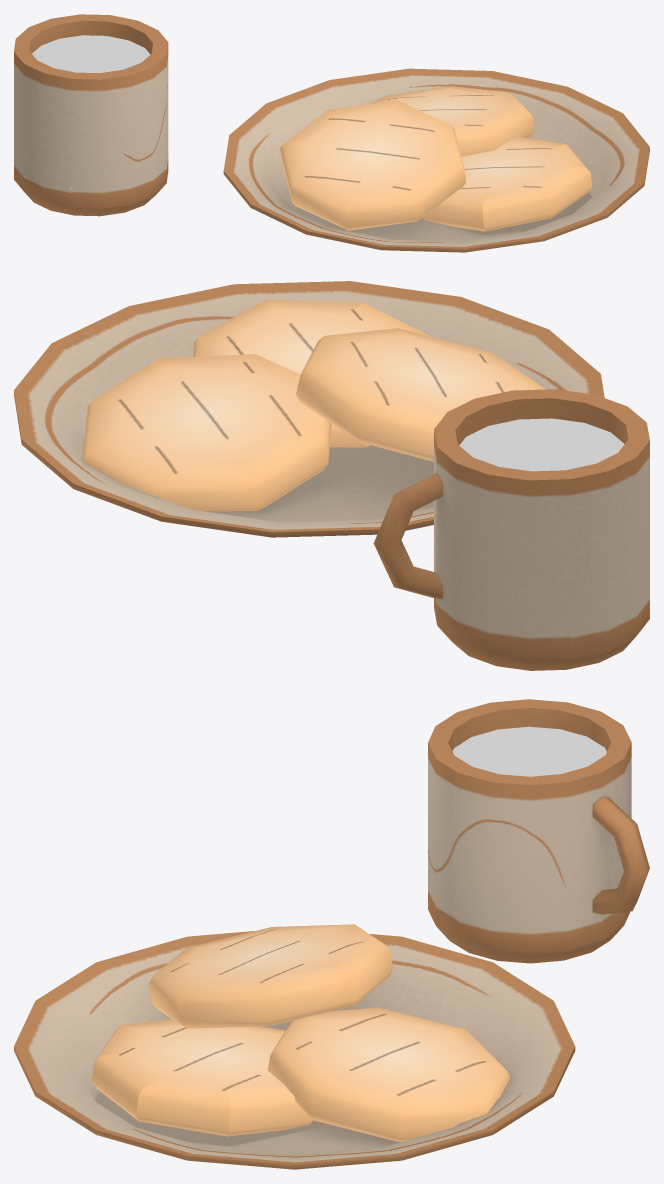
File: PlatoArepas.glb
The picture shows the model from 3 angles, top to bottom: view 1: azimuth 30°, elevation 25°; view 2: azimuth 150°, elevation 25°; view 3: azimuth 270°, elevation 25°; orthographic projection. The views are drawn at different scales.
Visible parts, largest first — view 1: PlatoDeArepas; view 2: PlatoDeArepas; view 3: PlatoDeArepas.
Part boxes in pixels (left/top/right/bottom): PlatoDeArepas: left=14, top=14, right=649, bottom=252; PlatoDeArepas: left=14, top=281, right=649, bottom=670; PlatoDeArepas: left=14, top=699, right=649, bottom=1169.
Size of the model in its own units: 0.7514 by 0.1993 by 0.6227.
3 materials, 2 textured.
